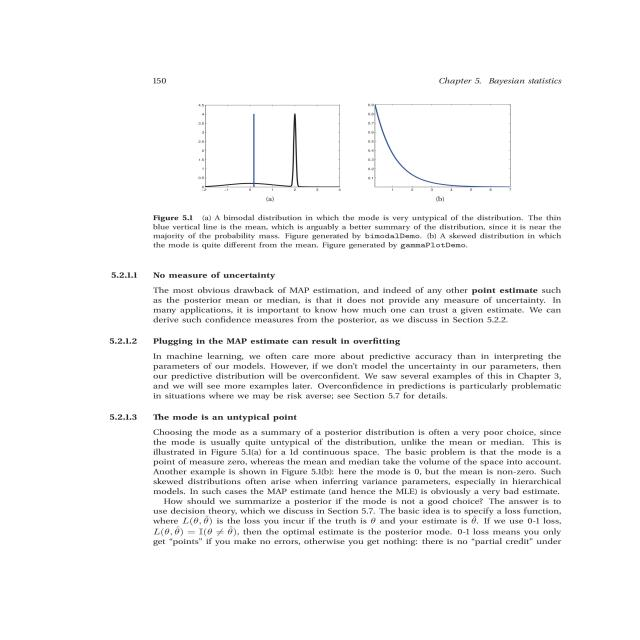diagram: (143, 65, 609, 265)
